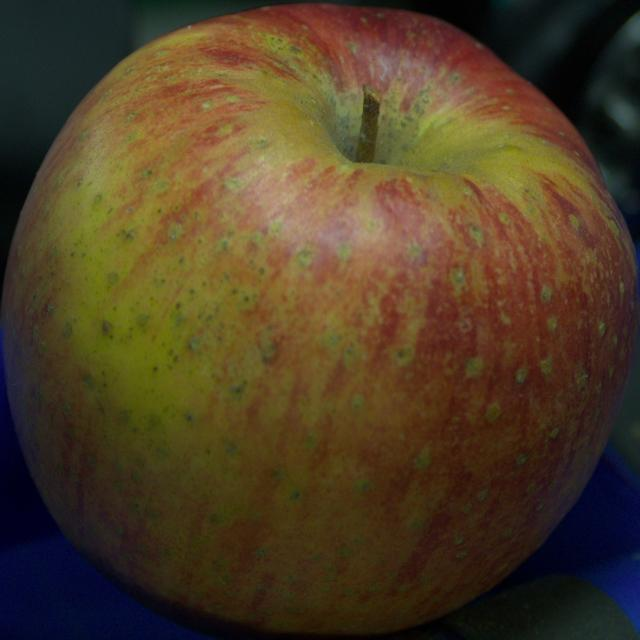apple: (2, 4, 639, 639)
